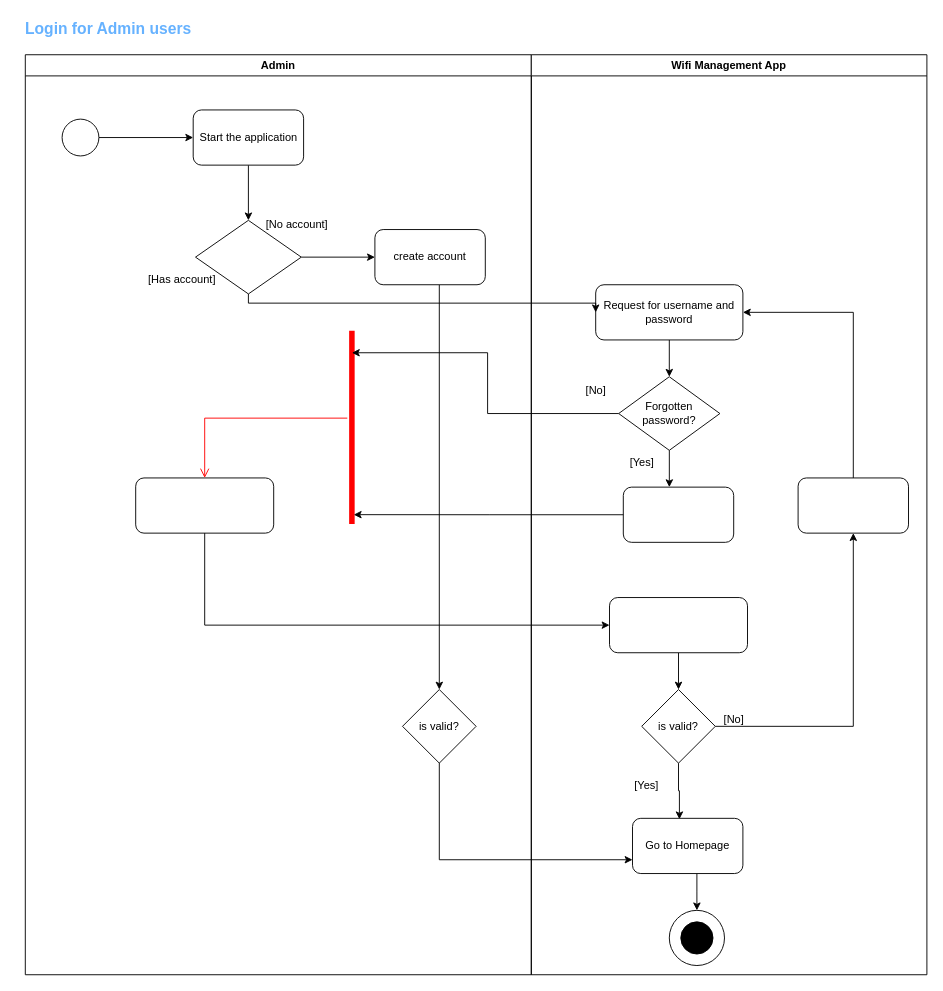
This 943x991 diagram has some shape labels left out. The shapes that lost their labels are listed below. From the top down, each one's box as (x1, y1, x2, y2) in pixels, then its label:
(195, 219, 301, 294): has account?
(135, 477, 274, 533): Enter login credentials
(622, 486, 734, 542): Send reset password link
(797, 477, 908, 533): Display error
(609, 597, 748, 653): Verify login credentials
